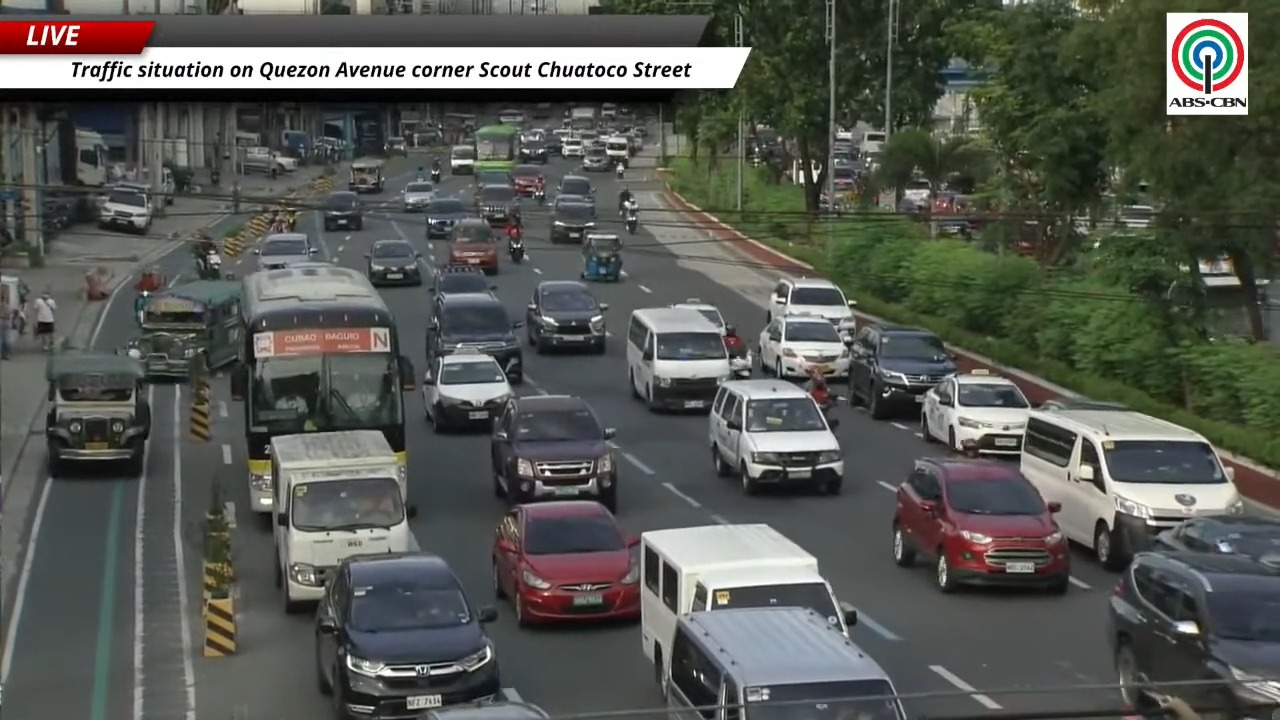bus: (231, 263, 415, 512), (475, 125, 520, 170)
car: (314, 552, 500, 717), (1108, 552, 1279, 718), (892, 458, 1069, 593), (492, 500, 639, 625), (709, 380, 843, 494), (491, 395, 617, 512), (45, 353, 151, 477), (849, 323, 956, 419), (920, 369, 1030, 455), (425, 291, 523, 384), (422, 351, 512, 431), (1151, 515, 1279, 567), (672, 298, 754, 378), (526, 280, 607, 353), (757, 314, 849, 378), (766, 277, 856, 335), (428, 265, 495, 316), (448, 218, 499, 273), (365, 239, 422, 285), (98, 187, 152, 233), (416, 701, 549, 719), (253, 233, 318, 269), (425, 198, 473, 239), (549, 202, 595, 243), (671, 298, 729, 330), (475, 184, 519, 226), (322, 191, 362, 230), (1037, 397, 1129, 410), (511, 164, 544, 196), (402, 181, 435, 211), (557, 175, 595, 201), (450, 144, 476, 174), (518, 136, 548, 162), (583, 148, 613, 171), (474, 169, 511, 187), (553, 195, 594, 209), (561, 135, 585, 157), (543, 132, 562, 156)
motorcycle: (723, 325, 753, 379), (199, 251, 221, 279), (134, 290, 150, 324), (508, 237, 524, 263), (624, 209, 637, 234), (534, 187, 545, 205), (210, 168, 220, 186), (430, 168, 441, 183), (615, 161, 624, 179)
truck: (640, 525, 855, 676), (269, 430, 416, 612), (46, 120, 109, 187), (239, 146, 296, 177), (281, 129, 311, 158), (569, 106, 598, 129)
